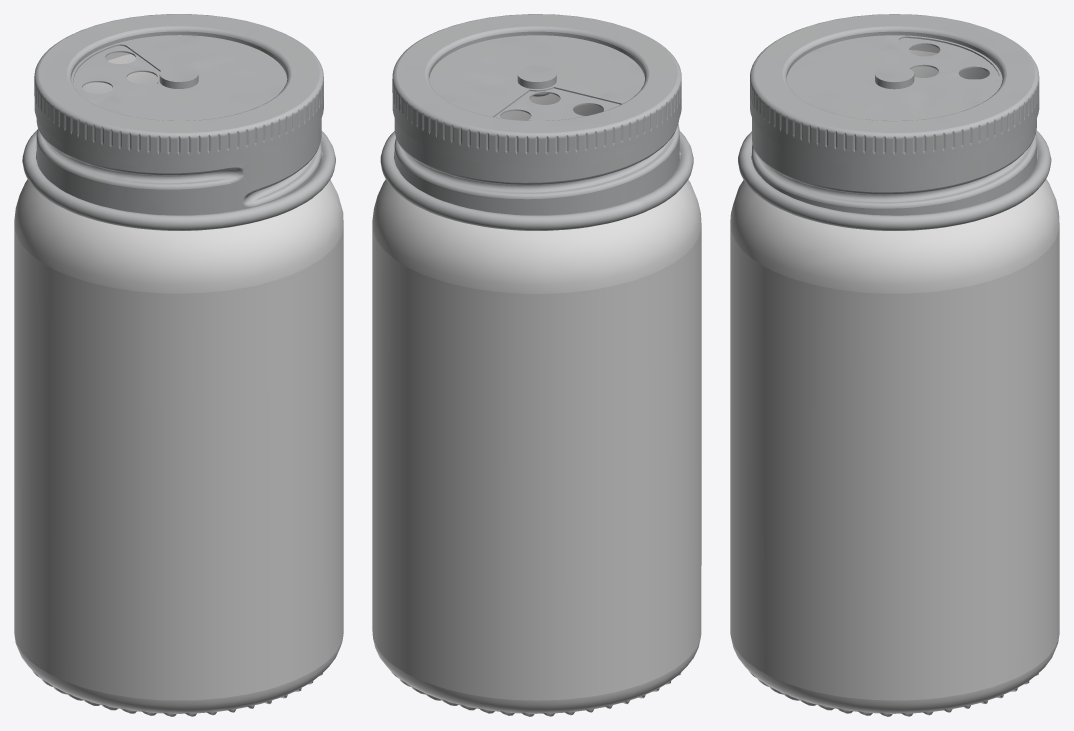
The model's file is Citronhaj40553211.glb.
The picture shows the model from 3 angles, left to right: view 1: azimuth 30°, elevation 25°; view 2: azimuth 150°, elevation 25°; view 3: azimuth 270°, elevation 25°; orthographic projection.
Parts seen in each view (by area): view 1: 2, 1; view 2: 2, 1; view 3: 2, 1.
Boxes of the visible parts, left/top/right/bottom form: 2: left=14, top=52, right=343, bottom=716; 1: left=22, top=14, right=335, bottom=230; 2: left=372, top=93, right=701, bottom=716; 1: left=380, top=14, right=693, bottom=230; 2: left=730, top=44, right=1059, bottom=716; 1: left=738, top=14, right=1051, bottom=230.
Bounding box in the file's own units: 0.042 × 0.0819 × 0.042.
Materials: 2 (1 with a texture image).
